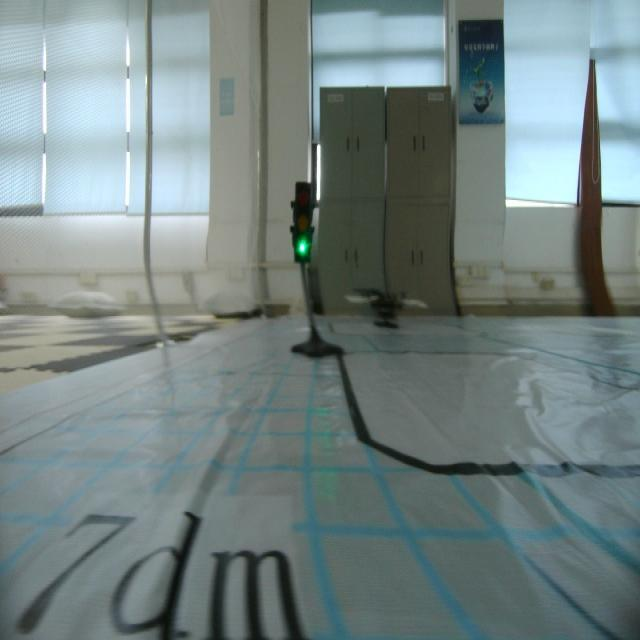green: (286, 172, 322, 274)
